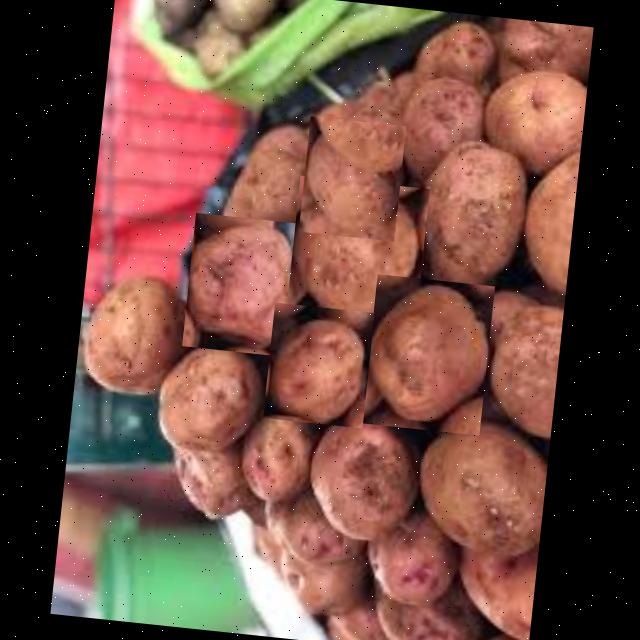Diseased-fungal potato: (398, 132, 532, 309), (284, 175, 428, 328), (361, 274, 494, 436), (410, 413, 550, 566), (294, 404, 422, 552), (181, 212, 300, 356), (74, 266, 191, 402), (262, 302, 374, 428), (150, 341, 264, 462), (297, 116, 405, 241)
